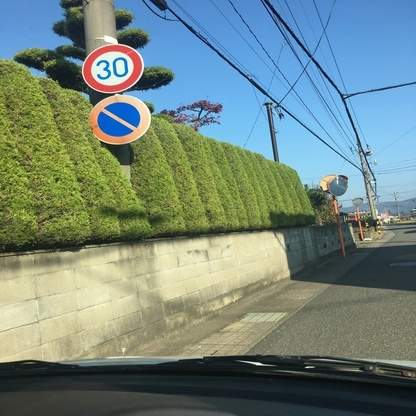Prohibition_sign: (85, 94, 162, 143)
Speed_sign: (76, 40, 149, 92)
